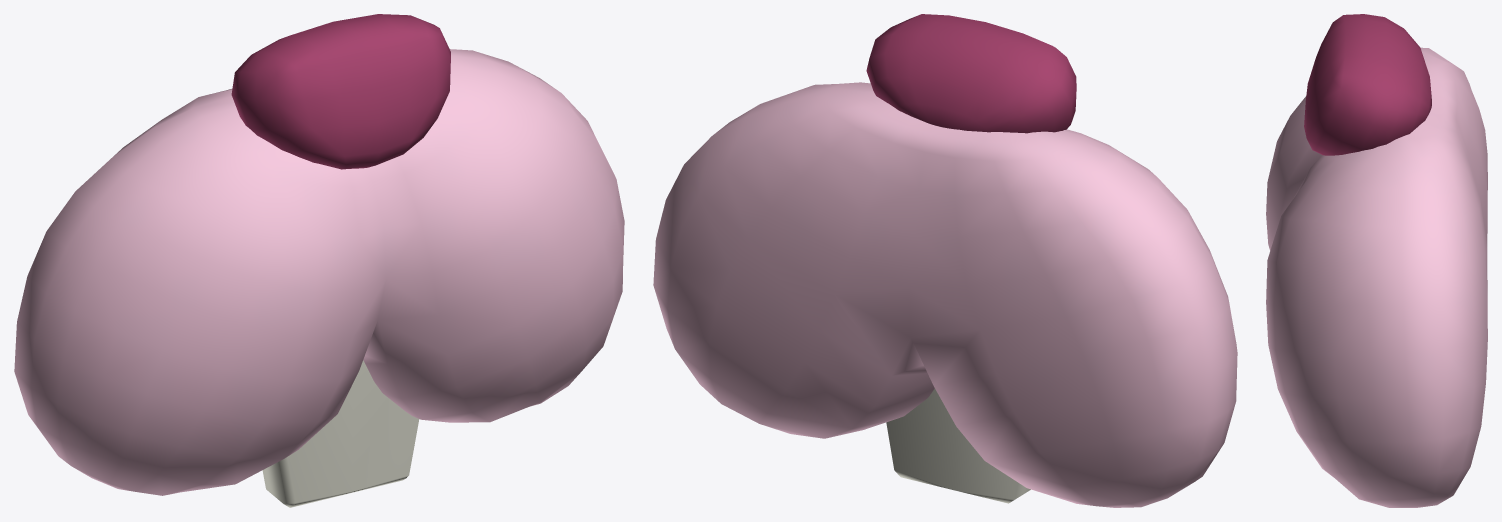
The model's file is AccessoryMouthRabbit0.glb.
3 views of the same model, side by side, from view 1: azimuth 30°, elevation 25°; view 2: azimuth 150°, elevation 25°; view 3: azimuth 270°, elevation 25° (orthographic). The views are drawn at different scales.
Parts seen in each view (by area): view 1: Accessory__mAccessory; view 2: Accessory__mAccessory; view 3: Accessory__mAccessory.
Part boxes in pixels (x1,y1,x2,y2): Accessory__mAccessory: [14, 14, 624, 507]; Accessory__mAccessory: [653, 14, 1237, 507]; Accessory__mAccessory: [1266, 14, 1487, 507].
Bounding box in the file's own units: 2.36 × 1.82 × 0.8692.
1 material, 1 textured.
